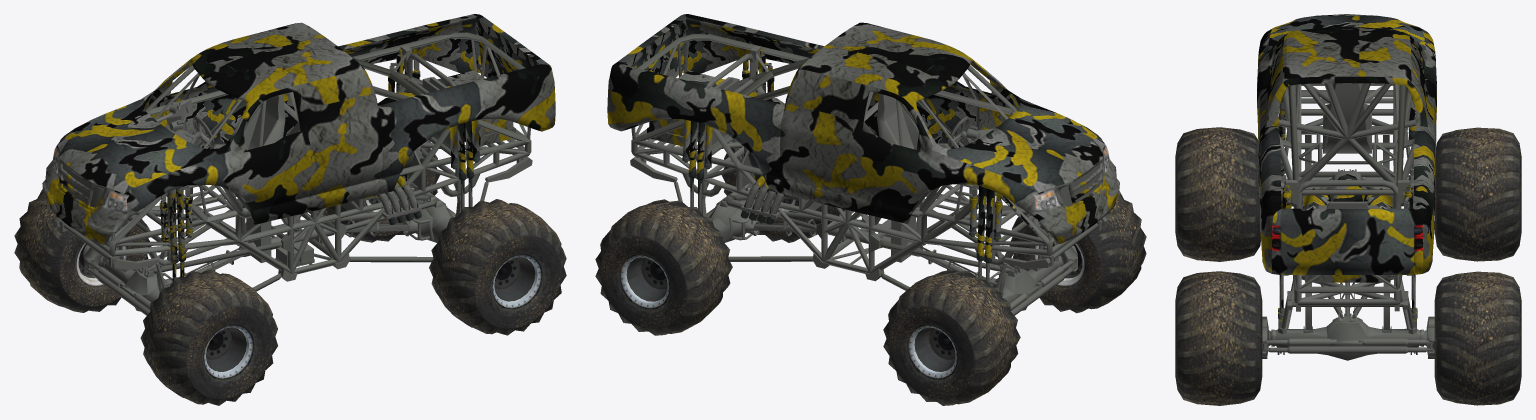
Rendered from truck 1.fbx.
3 views of the same model, side by side, from view 1: azimuth 30°, elevation 25°; view 2: azimuth 150°, elevation 25°; view 3: azimuth 270°, elevation 25° (orthographic). The views are drawn at different scales.
Parts seen in each view (by area): view 1: body, tyre2, tyre3, tyre1, tyre_4; view 2: body, tyre1, tyre_4, tyre2, tyre3; view 3: body, tyre3, tyre_4, tyre1, tyre2.
Boxes of the visible parts, x1,y1,x2,y2 form: body: [42, 14, 555, 315]; tyre2: [140, 269, 277, 405]; tyre3: [429, 199, 566, 335]; tyre1: [14, 187, 151, 312]; tyre_4: [317, 148, 440, 242]; body: [607, 14, 1119, 315]; tyre1: [883, 269, 1020, 405]; tyre_4: [595, 199, 732, 335]; tyre2: [1009, 190, 1146, 313]; tyre3: [721, 148, 845, 242]; body: [1257, 14, 1436, 360]; tyre3: [1175, 271, 1262, 405]; tyre_4: [1434, 271, 1521, 405]; tyre1: [1434, 127, 1521, 261]; tyre2: [1175, 127, 1260, 261].
Bounding box in the file's own units: 478 × 268 × 309.
